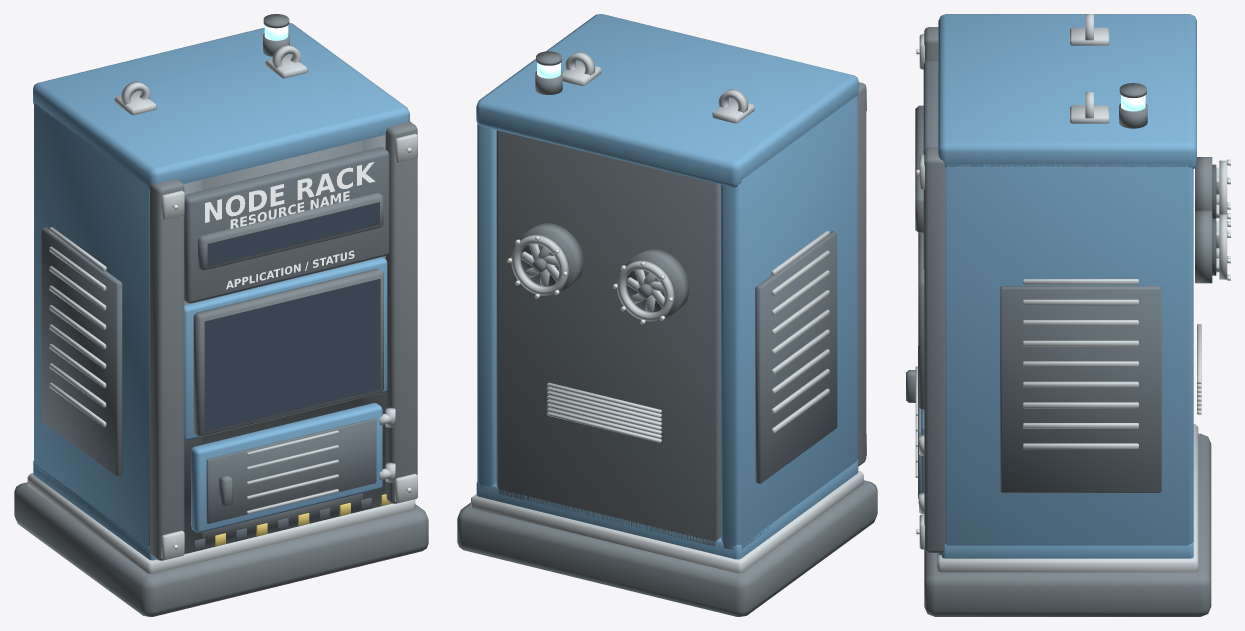
Rendered from node_rack_ultra.glb.
The picture shows the model from 3 angles, left to right: view 1: azimuth 30°, elevation 25°; view 2: azimuth 150°, elevation 25°; view 3: azimuth 270°, elevation 25°; orthographic projection. The views are drawn at different scales.
Visible parts, largest first — view 1: Roof_blue, SideWall_blue, CornerPost_frame, LiveViewSurface_glass, Skid_frame, FrontHeader_graphite, SideServicePanel_graphite, DoorMoving_Inset_graphite, DoorMoving_Panel_blue, SkidDeck_steel, LiveViewSurfaceFrame_frame, ScreenSupport_blue (+16 smaller); view 2: BackWall_frame, SideWall_blue, Roof_blue, Skid_frame, SideServicePanel_graphite, SkidDeck_steel, KickPlate_blue, RearFan_steel, RearVent_steel, CornerPost_frame, SideLouver_steel, RearFan_frame (+3 smaller); view 3: SideWall_blue, Roof_blue, SideServicePanel_graphite, Skid_frame, CornerPost_frame, SideLouver_steel, SkidDeck_steel, KickPlate_blue, RearFan_frame, FrontHeader_graphite, RearFan_steel, LiftMount_steel (+7 smaller).
Boxes of the visible parts, x1,y1,x2,y2 form: Roof_blue: [33, 23, 409, 189]; SideWall_blue: [34, 103, 149, 546]; CornerPost_frame: [150, 121, 417, 560]; LiveViewSurface_glass: [204, 278, 380, 432]; Skid_frame: [14, 482, 428, 616]; FrontHeader_graphite: [184, 147, 389, 303]; SideServicePanel_graphite: [41, 227, 122, 476]; DoorMoving_Inset_graphite: [206, 418, 376, 523]; DoorMoving_Panel_blue: [191, 403, 382, 532]; SkidDeck_steel: [27, 473, 415, 573]; LiveViewSurfaceFrame_frame: [193, 268, 383, 436]; ScreenSupport_blue: [184, 257, 387, 440]; BackWall_frame: [496, 130, 720, 546]; SideWall_blue: [477, 96, 857, 550]; Roof_blue: [476, 14, 858, 187]; Skid_frame: [457, 480, 877, 616]; SideServicePanel_graphite: [755, 231, 837, 483]; SkidDeck_steel: [471, 471, 863, 573]; KickPlate_blue: [476, 459, 858, 559]; RearFan_steel: [511, 235, 674, 321]; RearVent_steel: [547, 382, 661, 442]; CornerPost_frame: [857, 82, 866, 466]; SideLouver_steel: [771, 231, 829, 433]; RearFan_frame: [519, 223, 689, 319]; SideWall_blue: [945, 164, 1193, 545]; Roof_blue: [938, 14, 1196, 168]; SideServicePanel_graphite: [1000, 286, 1161, 492]; Skid_frame: [924, 433, 1211, 616]; CornerPost_frame: [924, 27, 945, 552]; SideLouver_steel: [1023, 279, 1138, 449]; SkidDeck_steel: [937, 424, 1198, 572]; KickPlate_blue: [941, 542, 1193, 558]; RearFan_frame: [1195, 157, 1212, 283]; FrontHeader_graphite: [923, 60, 938, 269]; RearFan_steel: [1216, 160, 1227, 279]; LiftMount_steel: [1070, 27, 1109, 123].
Bounding box in the file's own units: 1.6 × 2.53 × 1.48.
